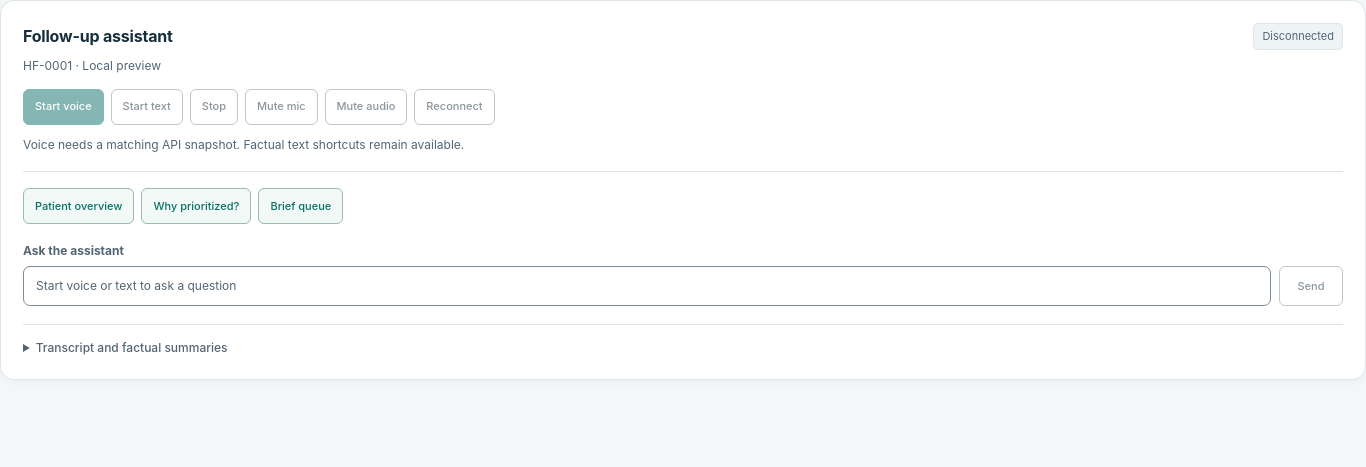
Test: labels local fallback and keeps numerical factual shortcuts available
expect the button "Start voice" is disabled: met, box [23,88,104,124]
What coordinates should you click on to do the following:
click the button "Patient overview"
I would click on:
 (79, 206)
Its box is [23,188,134,224].
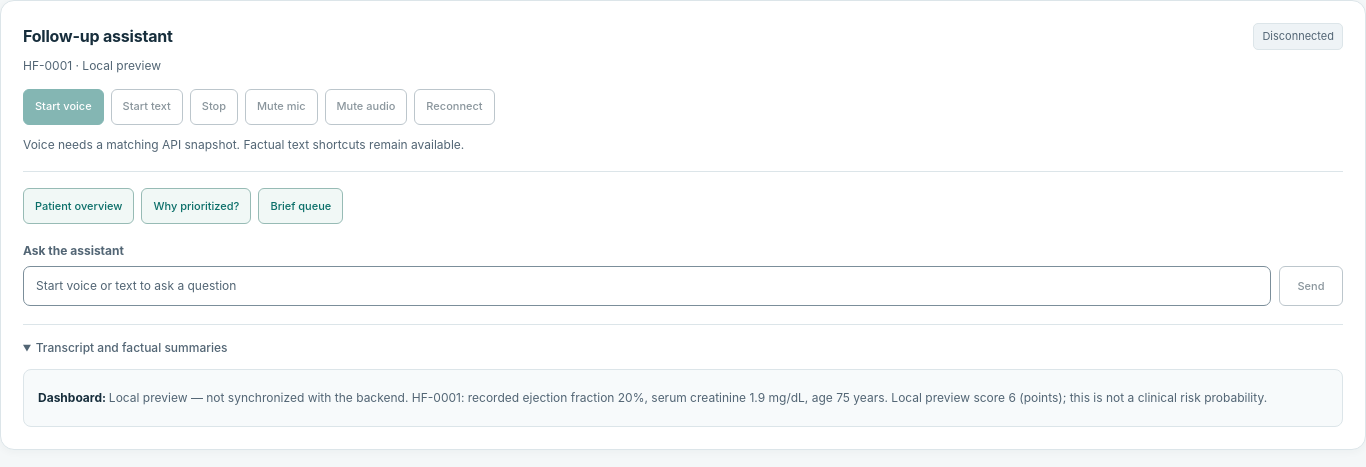
expect the element named "Assistant transcript" shows "Local preview — not synchronized": met, box [109,390,1267,405]
expect the element named "Assistant transcript" shows "20%": met, box [109,390,1267,405]
expect the element named "Assistant transcript" shows "1.9 mg/dL": met, box [109,390,1267,405]
